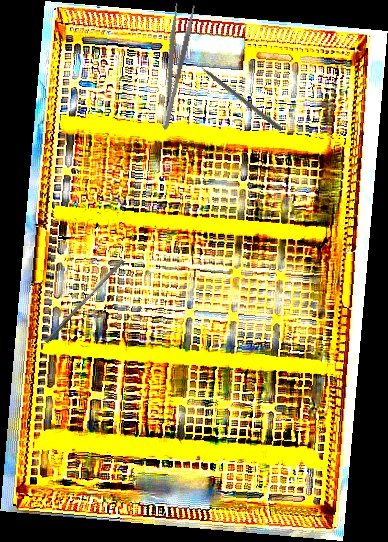Dressing Forceps: (148, 1, 198, 131)
Pusher: (44, 255, 125, 348), (189, 56, 284, 132)
